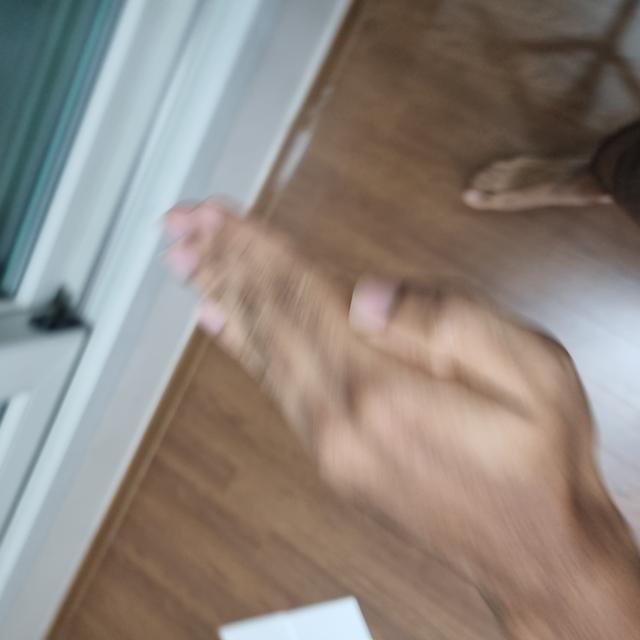Paper: (48, 167, 437, 599)
